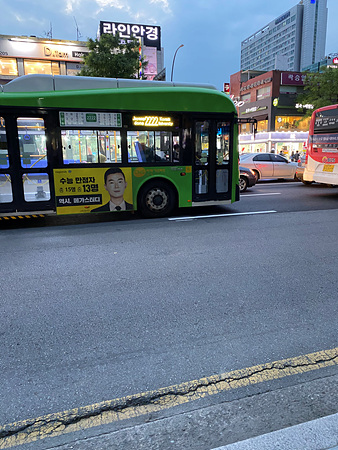entrance: (192, 110, 229, 206)
